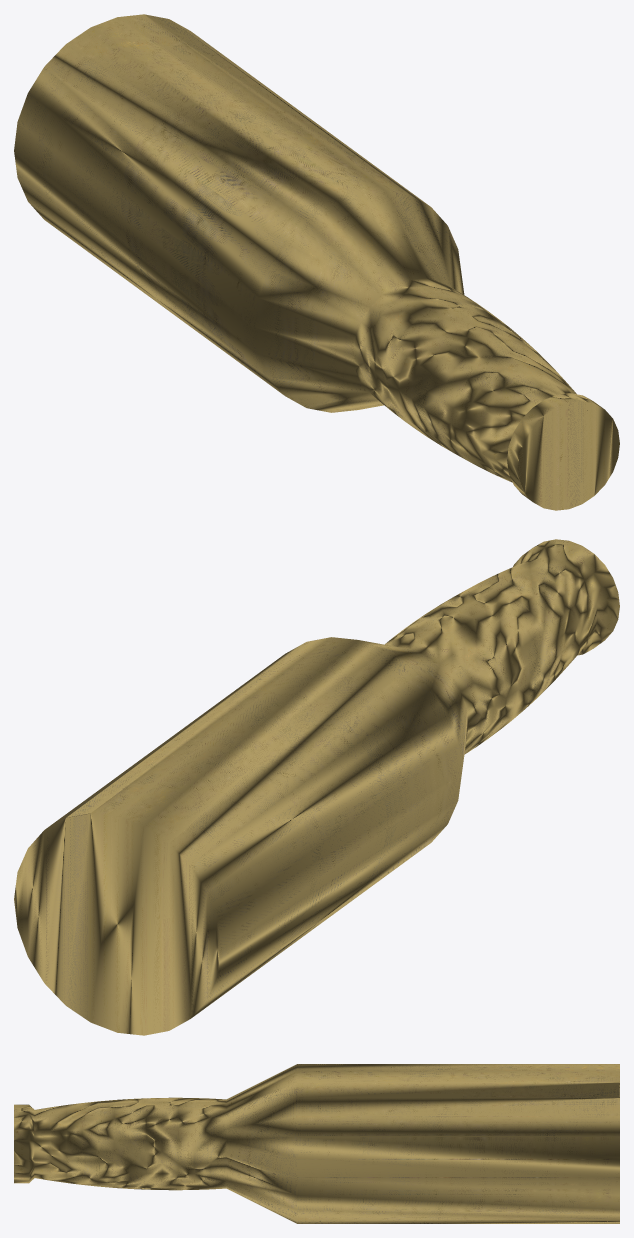
Rendered from model_align.obj.
3 views of the same model, one above another, from view 1: azimuth 30°, elevation 25°; view 2: azimuth 150°, elevation 25°; view 3: azimuth 270°, elevation 25° (orthographic). The views are drawn at different scales.
Size of the model in its own units: 0.0641 by 0.0641 by 0.2424.
